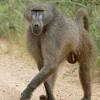monkey: (16, 1, 98, 91)
